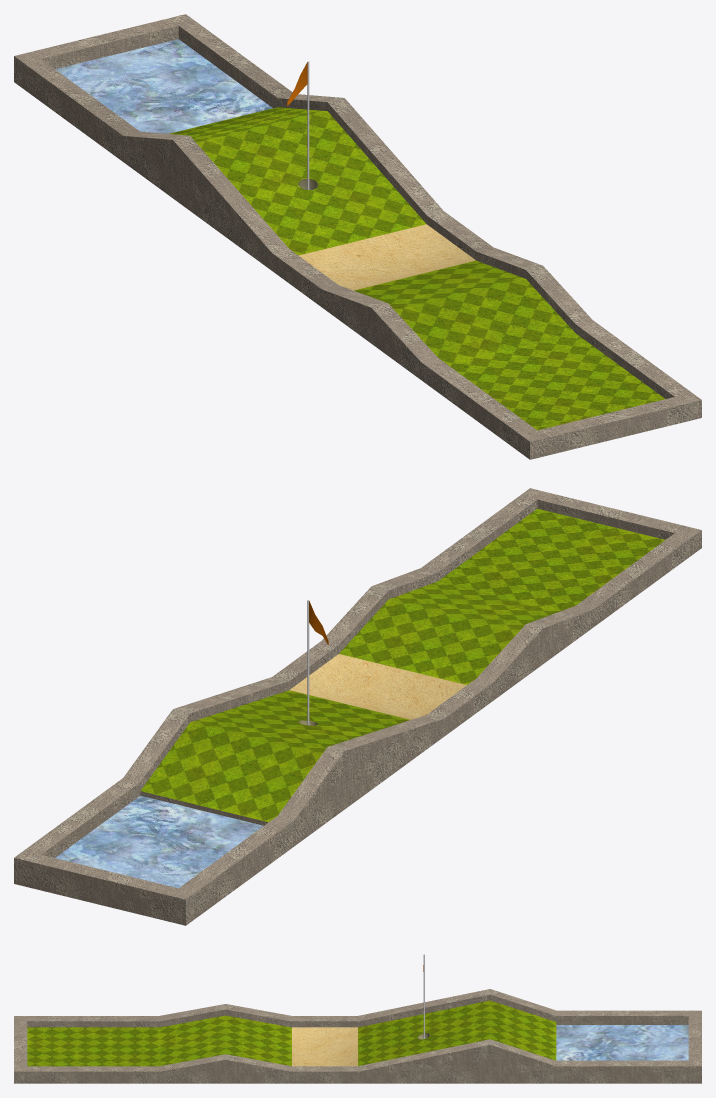
Rendered from course4_hole6.fbx.
The picture shows the model from 3 angles, top to bottom: view 1: azimuth 30°, elevation 25°; view 2: azimuth 150°, elevation 25°; view 3: azimuth 270°, elevation 25°; orthographic projection. The views are drawn at different scales.
Visible parts, largest first — view 1: course4_hole6_walls, course4_hole6_ground, course4_hole6_water, course4_hole6_sand_trap; view 2: course4_hole6_walls, course4_hole6_ground, course4_hole6_water, course4_hole6_sand_trap; view 3: course4_hole6_walls, course4_hole6_ground, course4_hole6_water, course4_hole6_sand_trap.
Boxes of the visible parts, bbox=[...] form: course4_hole6_walls: bbox=[14, 14, 701, 459]; course4_hole6_ground: bbox=[169, 107, 665, 430]; course4_hole6_water: bbox=[55, 39, 272, 133]; course4_hole6_sand_trap: bbox=[298, 224, 475, 290]; course4_hole6_walls: bbox=[14, 488, 701, 925]; course4_hole6_ground: bbox=[140, 508, 664, 822]; course4_hole6_water: bbox=[55, 795, 263, 888]; course4_hole6_sand_trap: bbox=[289, 654, 466, 719]; course4_hole6_walls: bbox=[14, 989, 701, 1083]; course4_hole6_ground: bbox=[27, 1000, 556, 1066]; course4_hole6_water: bbox=[556, 1025, 688, 1060]; course4_hole6_sand_trap: bbox=[292, 1027, 357, 1066].
Bounding box in the file's own units: 100 × 84.53 × 520.
